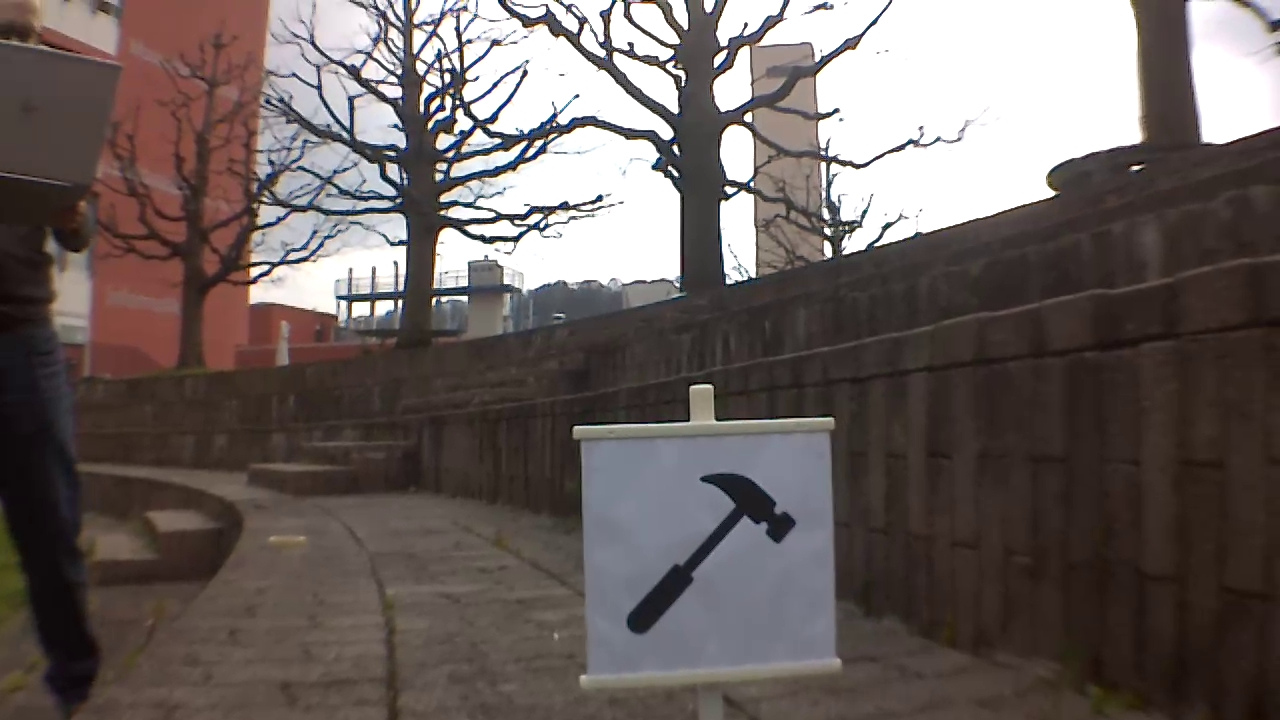hammer: (621, 472, 804, 633)
